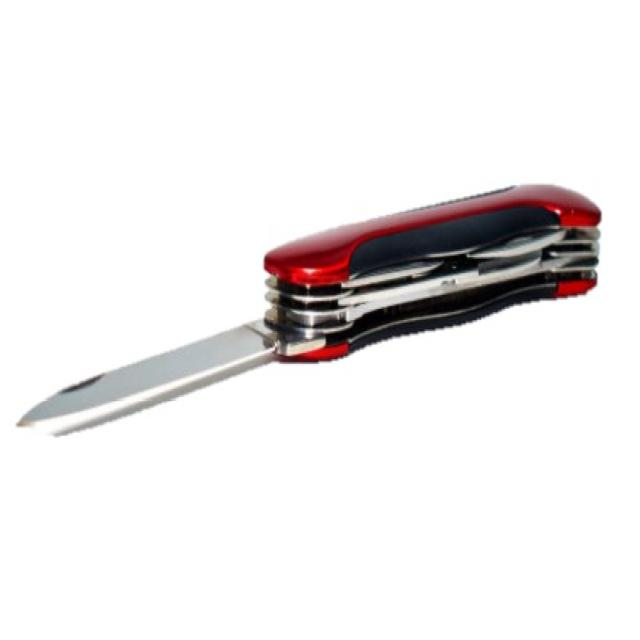knife: (9, 177, 610, 452)
